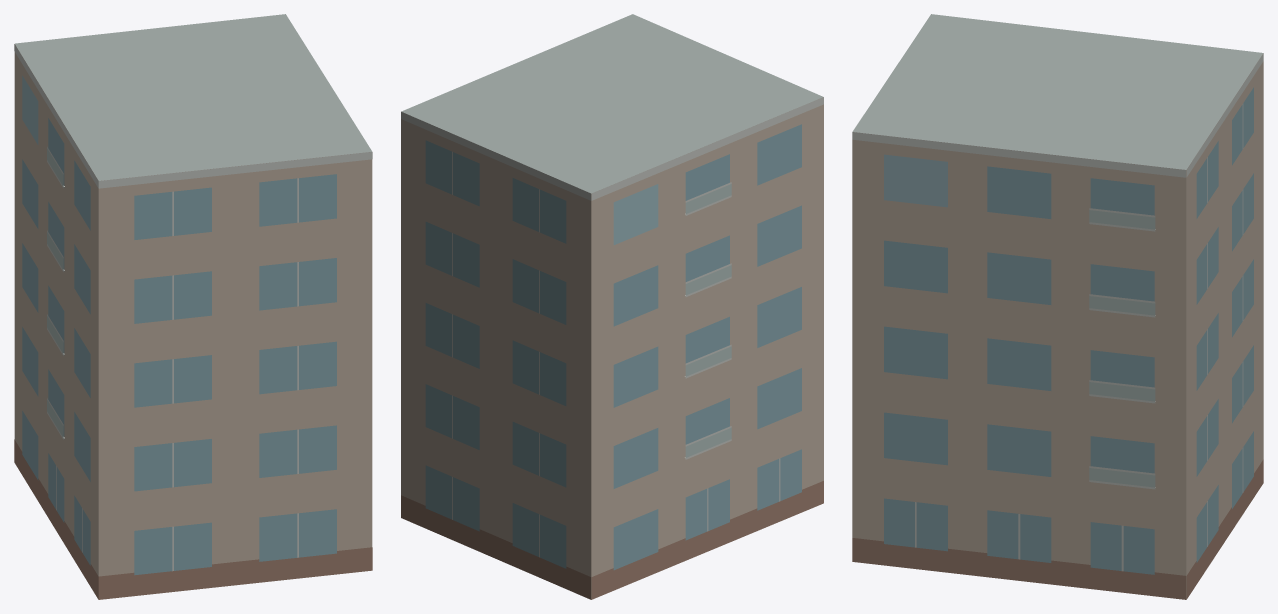
Rendered from survey-upis-32936124.glb.
3 renders of one model, left to right at view 1: azimuth 30°, elevation 25°; view 2: azimuth 150°, elevation 25°; view 3: azimuth 270°, elevation 25°, orthographic. The views are drawn at different scales.
Visible parts, largest first — view 1: survey-upis-32936124.tmp; view 2: survey-upis-32936124.tmp; view 3: survey-upis-32936124.tmp.
Part boxes in pixels (box(x1,y1,x2,y2)): survey-upis-32936124.tmp: box(14, 14, 372, 599); survey-upis-32936124.tmp: box(401, 14, 823, 599); survey-upis-32936124.tmp: box(852, 14, 1263, 599).
Bounding box in the file's own units: 10.44 × 13.4 × 11.63.
